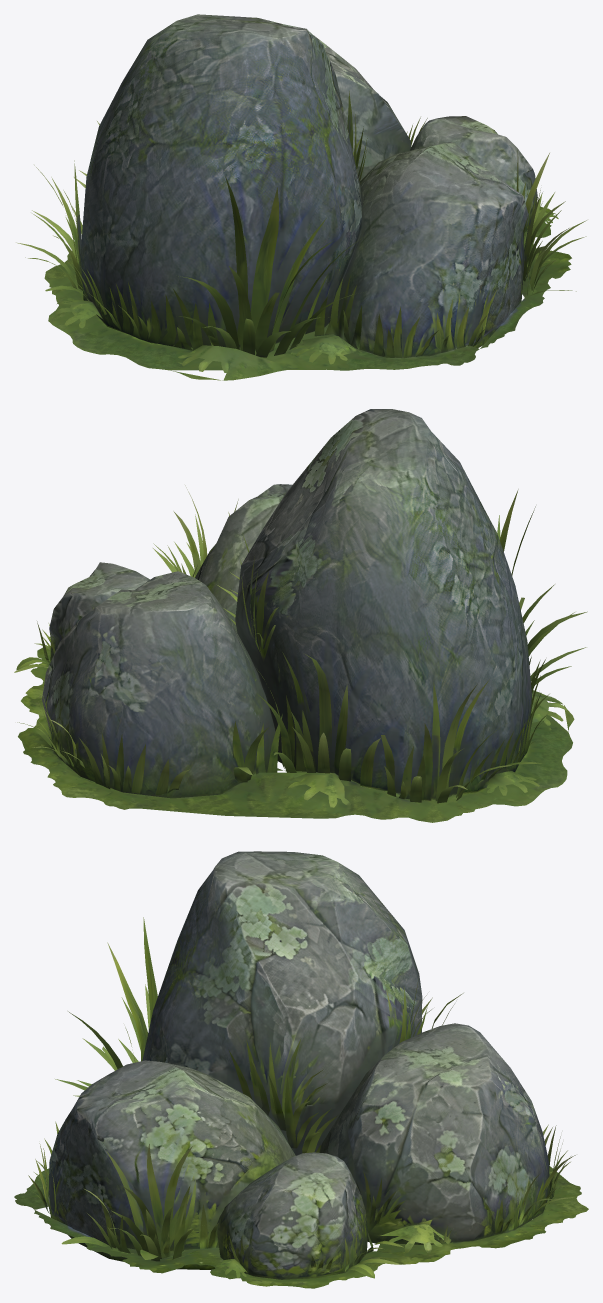
The model's file is SM_Env_SherwoodRockCluster.fbx.
The picture shows the model from 3 angles, top to bottom: view 1: azimuth 30°, elevation 25°; view 2: azimuth 150°, elevation 25°; view 3: azimuth 270°, elevation 25°; orthographic projection. The views are drawn at different scales.
Visible parts, largest first — view 1: SM_Env_SherwoodRockCluster; view 2: SM_Env_SherwoodRockCluster; view 3: SM_Env_SherwoodRockCluster.
Part boxes in pixels (x1,y1,x2,y2): SM_Env_SherwoodRockCluster: (16,14,586,380); SM_Env_SherwoodRockCluster: (14,409,587,822); SM_Env_SherwoodRockCluster: (14,851,588,1288).
Size of the model in its own units: 20.64 by 20.78 by 12.
Materials: 1 (1 with a texture image).
